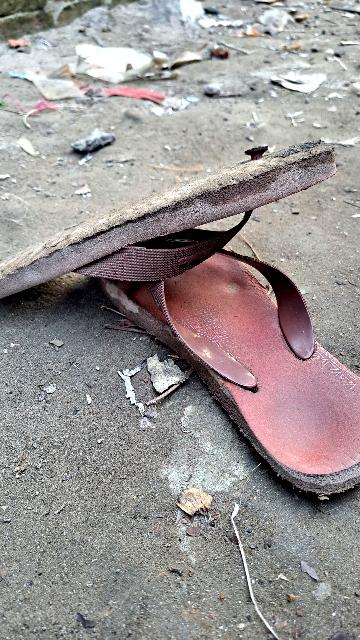sandal: (108, 198, 360, 519), (0, 133, 344, 300)
